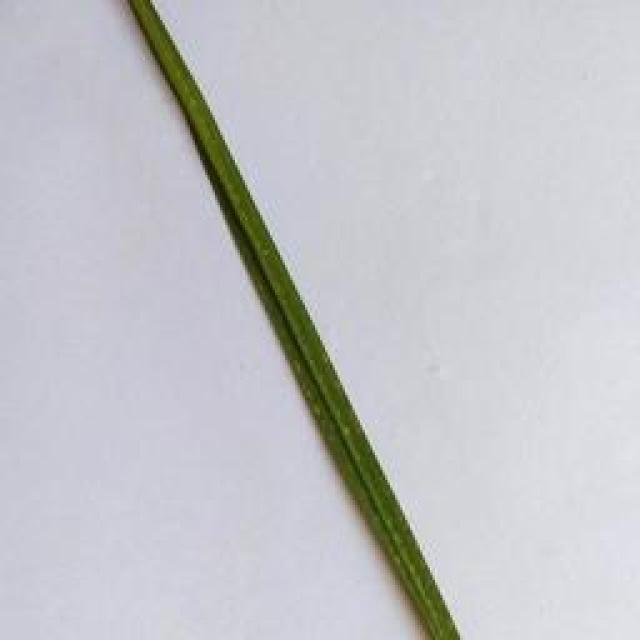Healthy-Plant: (130, 0, 460, 640)
